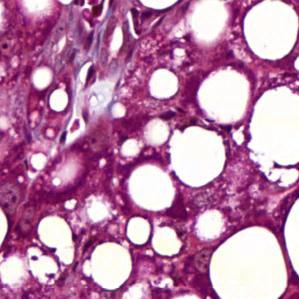steatosis: (239, 0, 299, 61), (168, 125, 224, 186), (84, 242, 140, 292)
